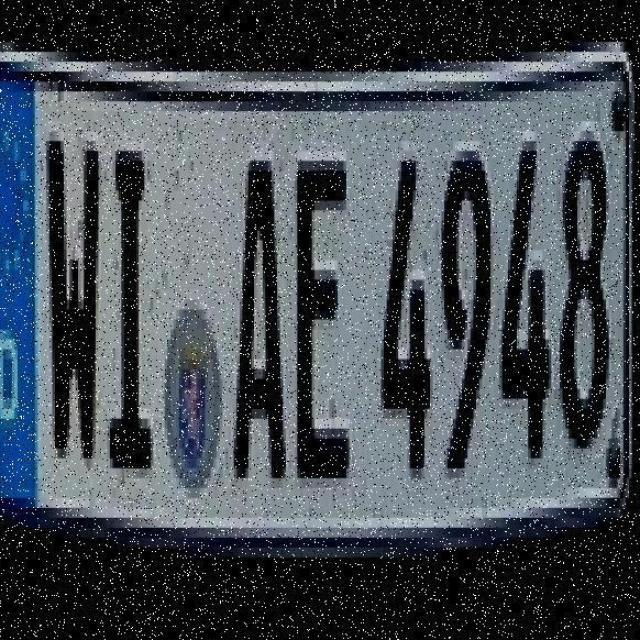license-plate: (0, 58, 640, 624)
